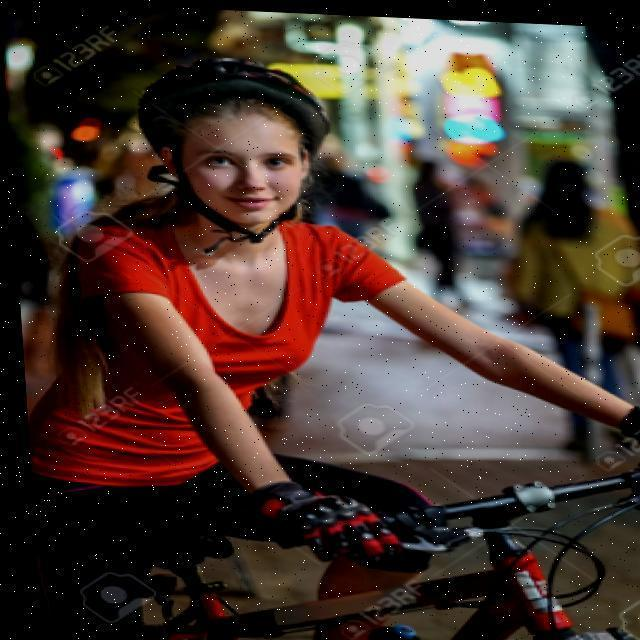Helmet: (127, 54, 342, 240)
